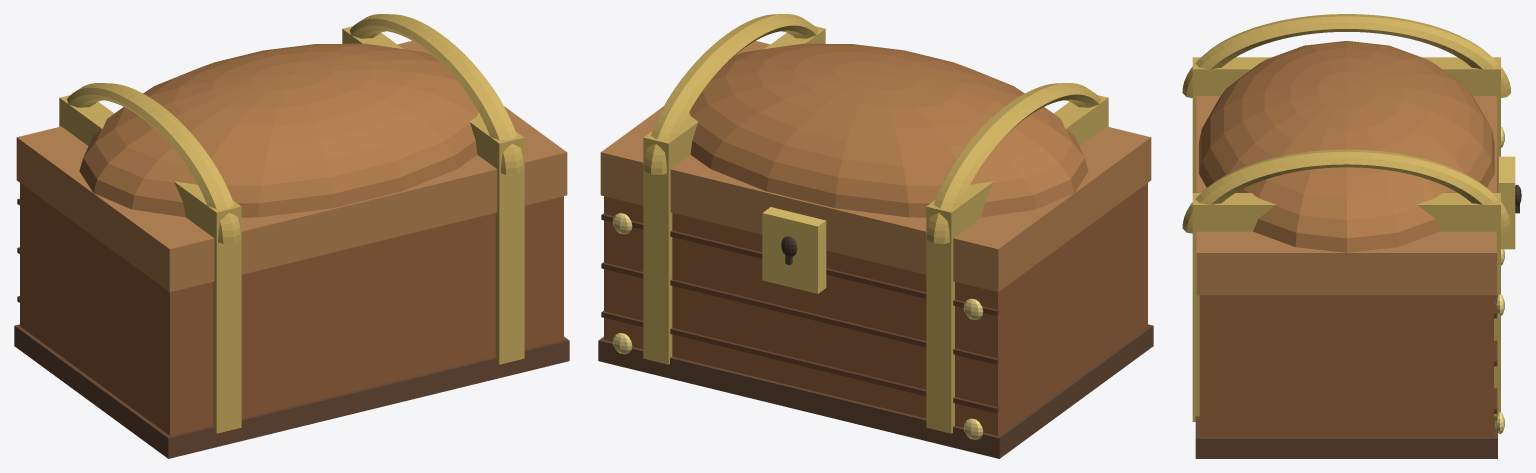
File: gold-chest.glb
3 views of the same model, side by side, from view 1: azimuth 30°, elevation 25°; view 2: azimuth 150°, elevation 25°; view 3: azimuth 270°, elevation 25° (orthographic).
Visible parts, largest first — view 1: Wood base, Curved lid top, Lid, Brass strap (×2), Bottom rail, Lid strap curve (×2); view 2: Wood base, Curved lid top, Lid, Brass strap (×2), Bottom rail, Lid strap curve (×2), Plank seam (×3), Lock plate; view 3: Wood base, Curved lid top, Lid, Lid strap curve (×2), Brass strap (×2), Bottom rail, Lock plate.
Boxes of the visible parts, bbox=[...] form: Wood base: bbox=[20, 183, 563, 435]; Curved lid top: bbox=[79, 43, 478, 217]; Lid: bbox=[16, 41, 567, 292]; Brass strap (×2): bbox=[59, 26, 524, 433]; Bottom rail: bbox=[14, 324, 569, 458]; Lid strap curve (×2): bbox=[67, 14, 523, 243]; Wood base: bbox=[604, 183, 1147, 435]; Curved lid top: bbox=[689, 43, 1088, 217]; Lid: bbox=[600, 41, 1151, 292]; Brass strap (×2): bbox=[643, 26, 1108, 433]; Bottom rail: bbox=[598, 324, 1153, 458]; Lid strap curve (×2): bbox=[644, 14, 1100, 243]; Plank seam (×3): bbox=[601, 213, 998, 413]; Lock plate: bbox=[762, 207, 826, 293]; Wood base: bbox=[1199, 295, 1493, 436]; Curved lid top: bbox=[1199, 41, 1494, 252]; Lid: bbox=[1196, 96, 1496, 295]; Lid strap curve (×2): bbox=[1182, 14, 1511, 233]; Brass strap (×2): bbox=[1192, 57, 1500, 421]; Bottom rail: bbox=[1195, 416, 1497, 458]; Lock plate: bbox=[1499, 156, 1515, 249].
Size of the model in its own units: 2.24 by 1.52 by 1.67.
